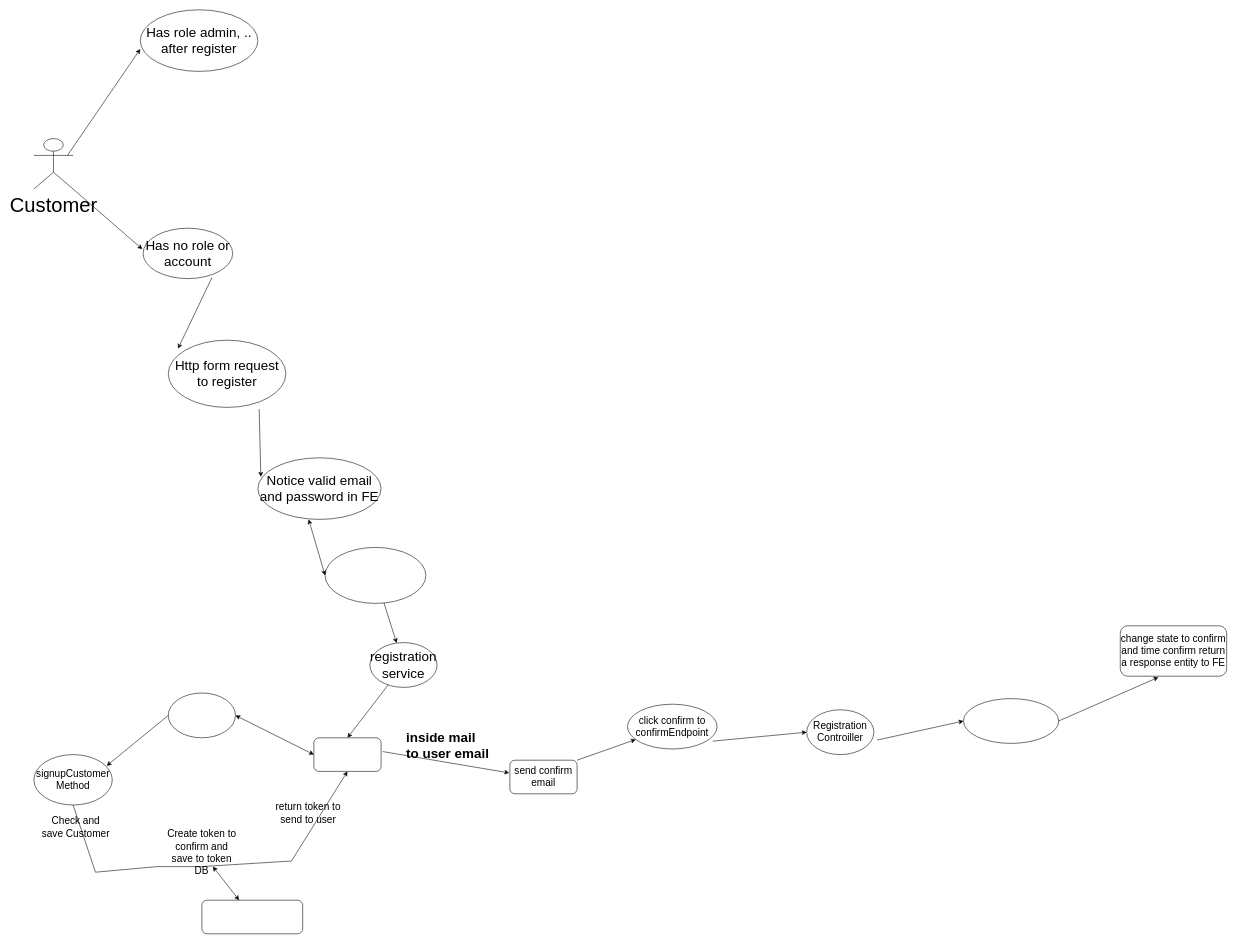
Image size: 1236x944. Some labels were removed from this diagram. The centre of each missing label's shape, as x and y in pixels:
"confirm method in registrationService" goes at point 1011,720.
"Confirm token" goes at point 347,754.
"ConfirmationToken" goes at point 252,917.
"Customer Service" goes at point 201,715.
"registration endpoint" goes at point 375,575.
